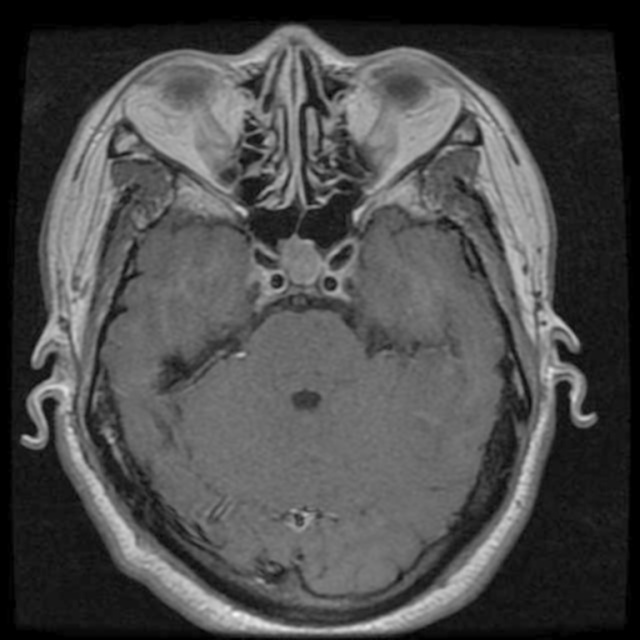no tumor: (266, 234, 319, 290)
